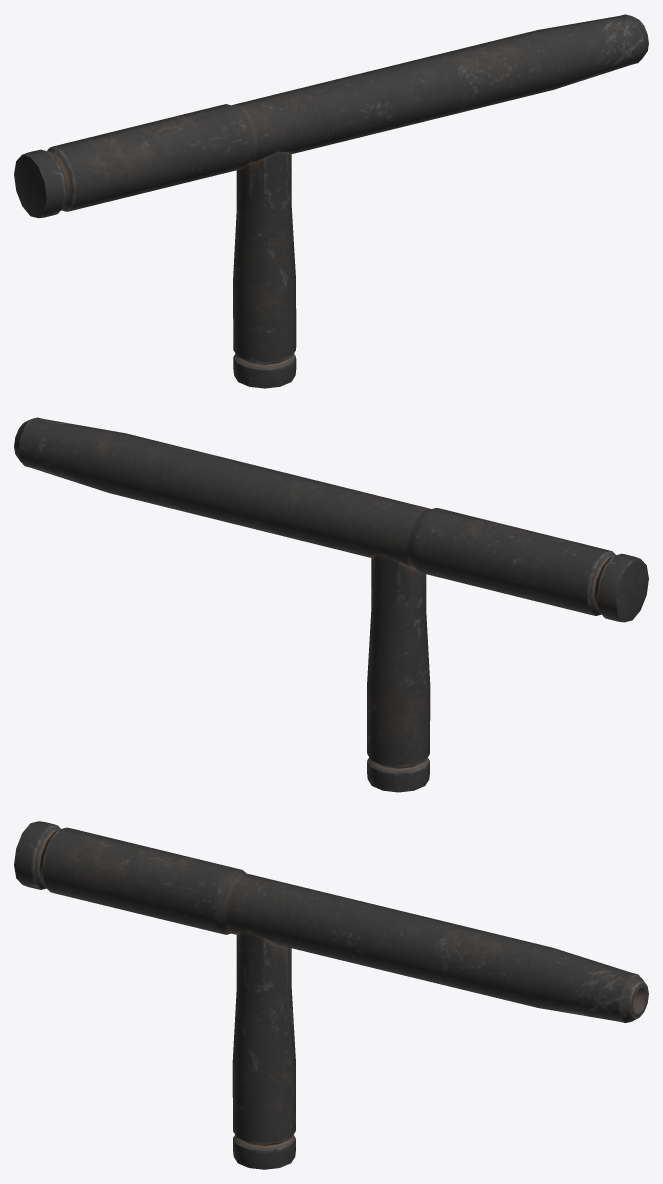
Rendered from SM_weapon_batton.fbx.
3 renders of one model, top to bottom at view 1: azimuth 30°, elevation 25°; view 2: azimuth 150°, elevation 25°; view 3: azimuth 330°, elevation 25°, orthographic.
Visible parts, largest first — view 1: weapon_batton; view 2: weapon_batton; view 3: weapon_batton.
Part boxes in pixels (<box>): weapon_batton: <box>14,14,648,388</box>; weapon_batton: <box>14,417,648,792</box>; weapon_batton: <box>14,821,648,1169</box>.
Bounding box in the file's own units: 34.69 × 15.21 × 3.3.
